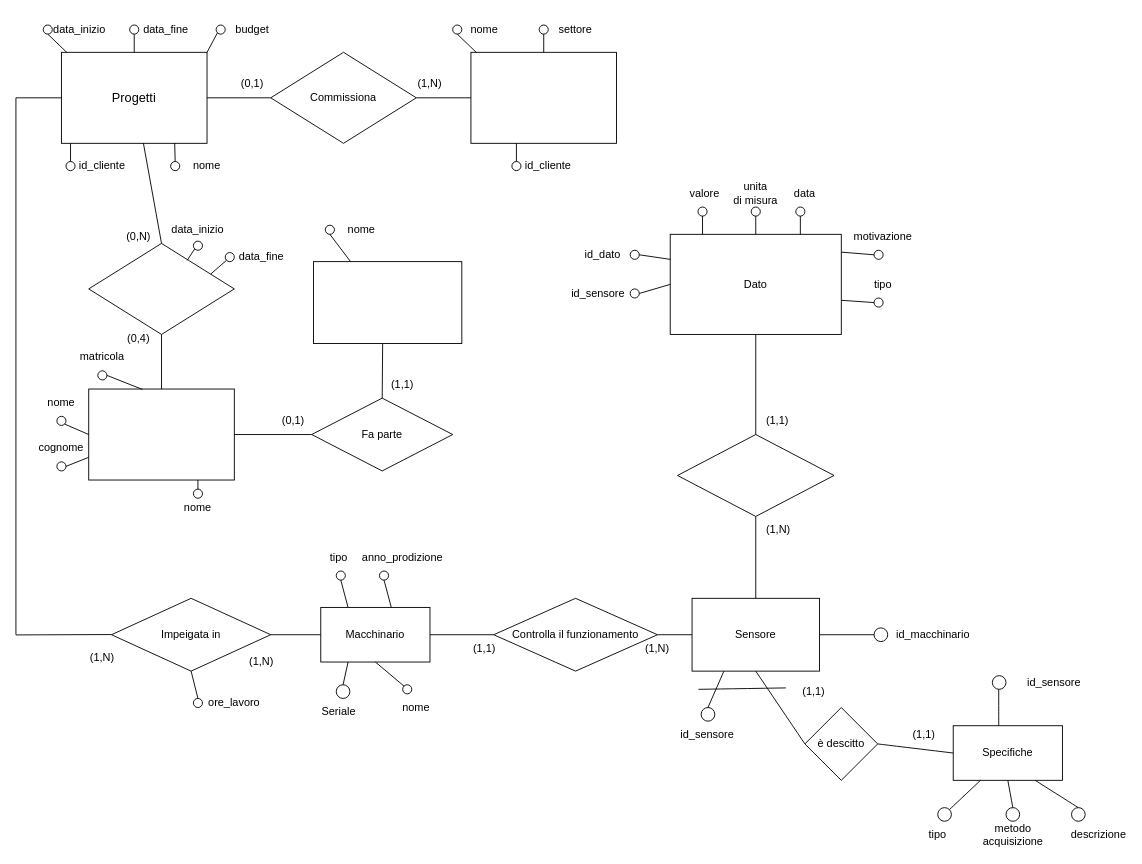
Image size: 1142x864. Some labels were removed from this diagram. The centre of each missing label's shape, as x and y in pixels:
"Cliente" belongs at (543,97).
"Dipartimento" belongs at (387,302).
"Ingegnere" belongs at (161,434).
"Registra" belongs at (755,475).
"Sono assegnati" belongs at (161,288).
